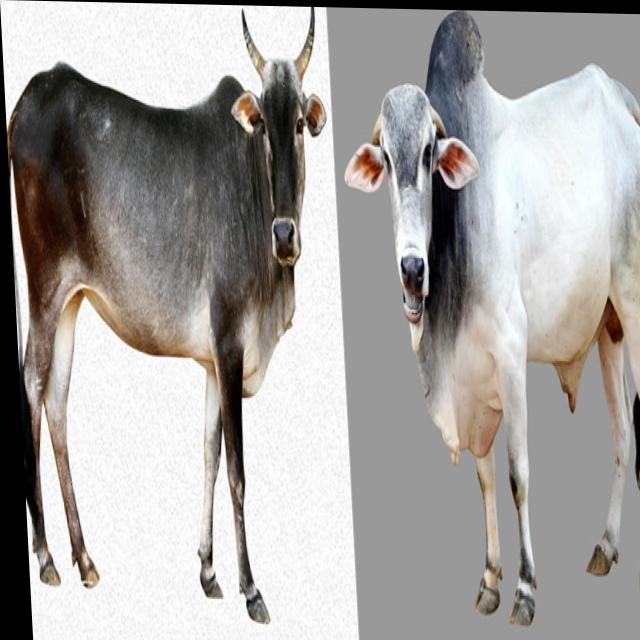cowFace: (337, 75, 485, 327), (226, 4, 329, 271)
